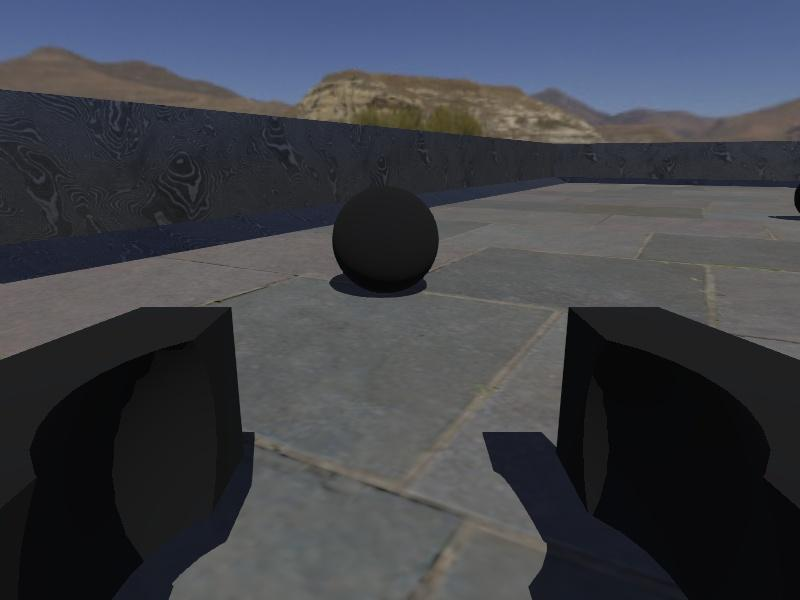black ball: (332, 185, 439, 295)
